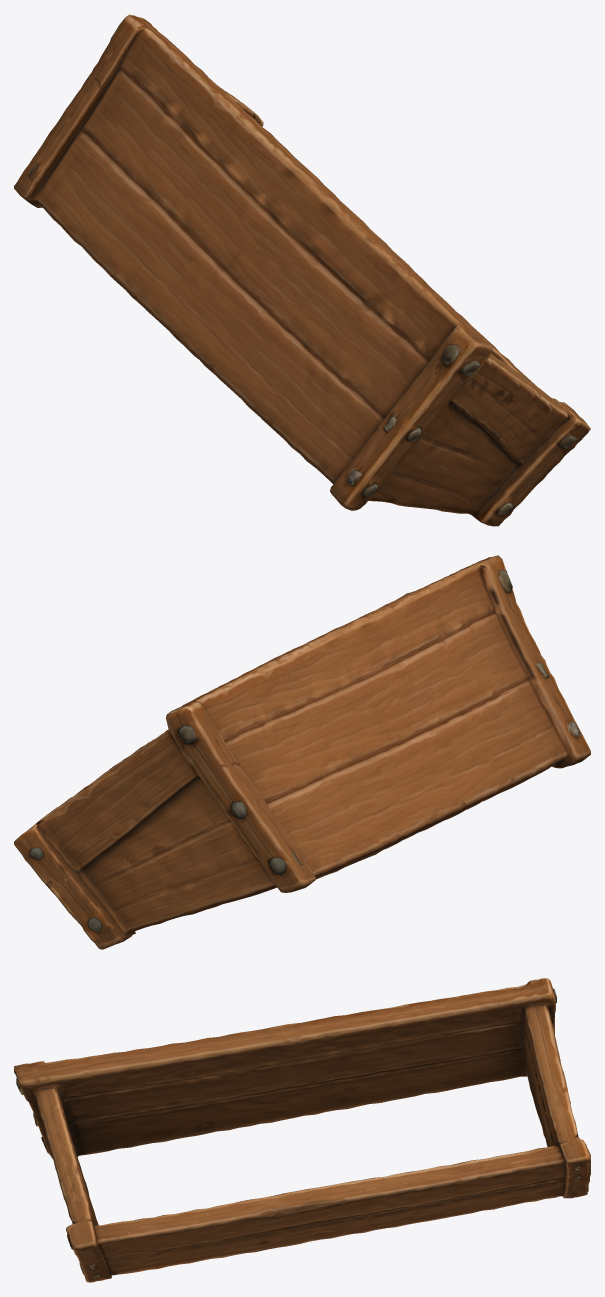
Rendered from tripo_convert_9e75f6cb-673b-4cd3-ab57-a6d371f9f214.glb.
3 renders of one model, top to bottom at view 1: azimuth 30°, elevation 25°; view 2: azimuth 150°, elevation 25°; view 3: azimuth 270°, elevation 25°, orthographic. The views are drawn at different scales.
Visible parts, largest first — view 1: tripo_node_9e75f6cb-673b-4cd3-ab57-a6d371f9f214; view 2: tripo_node_9e75f6cb-673b-4cd3-ab57-a6d371f9f214; view 3: tripo_node_9e75f6cb-673b-4cd3-ab57-a6d371f9f214.
Part boxes in pixels (x1,y1,x2,y2): tripo_node_9e75f6cb-673b-4cd3-ab57-a6d371f9f214: (14, 14, 590, 526); tripo_node_9e75f6cb-673b-4cd3-ab57-a6d371f9f214: (14, 555, 590, 949); tripo_node_9e75f6cb-673b-4cd3-ab57-a6d371f9f214: (14, 978, 590, 1282).
Bounding box in the file's own units: 0.4616 × 0.5038 × 0.9788.
1 material, 1 textured.
